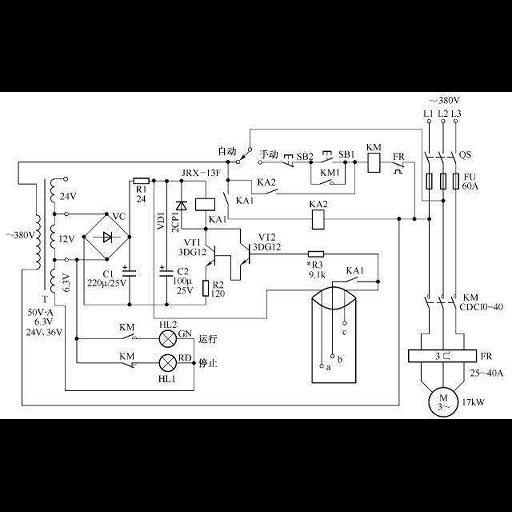firstpolarcapacitor: (118, 262, 139, 278), (157, 263, 174, 278)
firstresistance: (200, 277, 211, 300), (305, 248, 326, 259), (132, 175, 151, 186)
fuse: (451, 169, 462, 193), (424, 169, 435, 192), (438, 170, 449, 192)
light: (157, 329, 178, 350), (157, 354, 178, 373)
npn: (204, 241, 220, 270), (236, 240, 252, 268)
seconddiode: (172, 198, 189, 212)
transformer: (33, 175, 58, 295)
